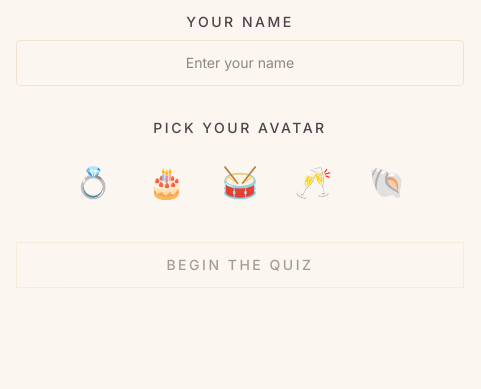
Scenario: QuizModule › transitions to question view on Begin click
In the field with placeholder "Enter your name": x=240, y=63 [16,40,464,86], type "Ola"
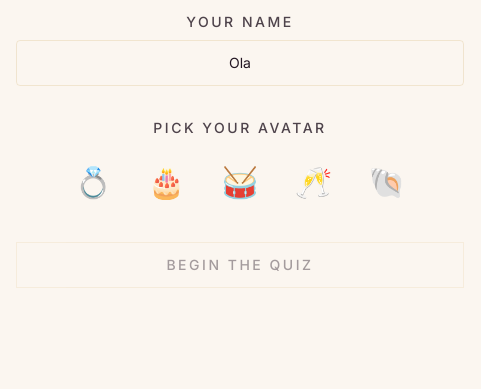
Click the button named "select 💍 avatar": x=93, y=182 [64,154,122,210]
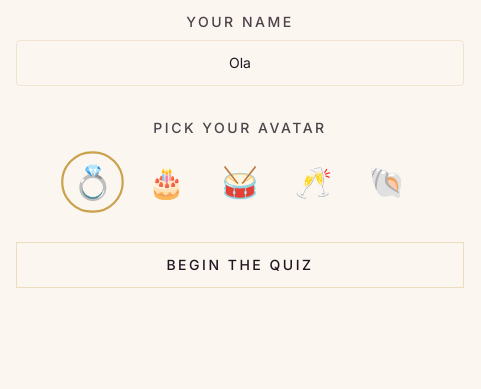
Click the button "Begin the Quiz": x=240, y=265 [16,242,464,288]
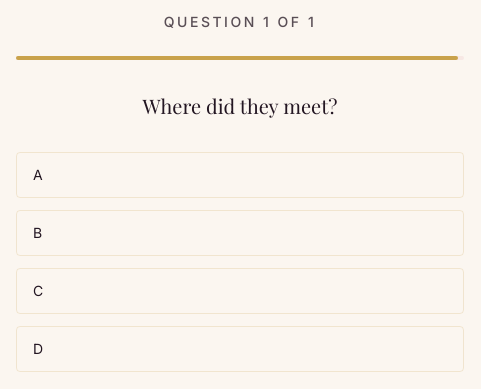
Check: the text "Where did they meet?" is shown, box [143,92,337,119]
